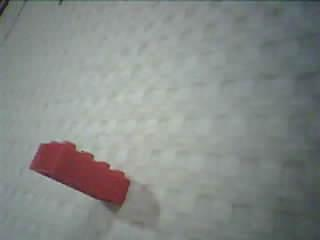lego: (27, 140, 130, 207)
